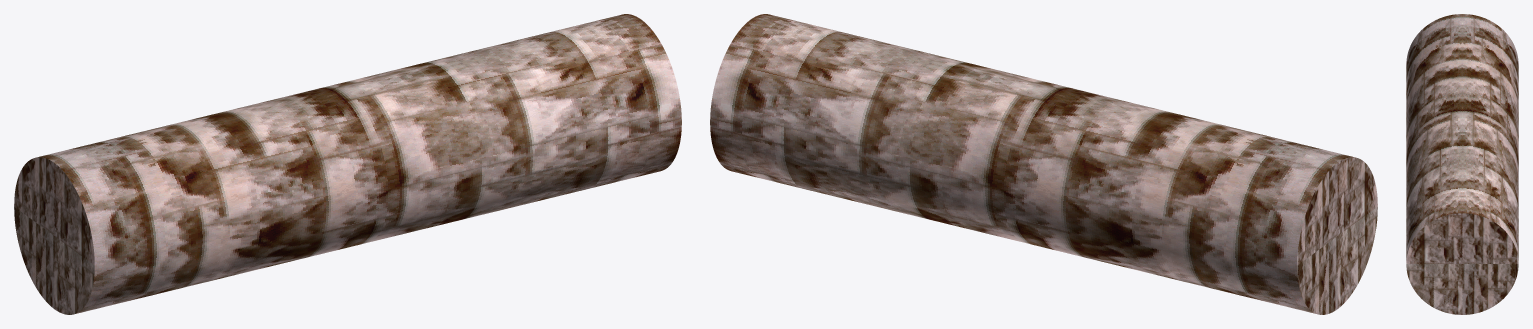
3 views of the same model, side by side, from view 1: azimuth 30°, elevation 25°; view 2: azimuth 150°, elevation 25°; view 3: azimuth 270°, elevation 25° (orthographic). The views are drawn at different scales.
Visible parts, largest first — view 1: Renderer Node; view 2: Renderer Node; view 3: Renderer Node.
Boxes of the visible parts, box(x1,y1,x2,y2) form: Renderer Node: box(14, 14, 681, 314); Renderer Node: box(710, 14, 1377, 314); Renderer Node: box(1406, 14, 1518, 314).
Bounding box in the file's own units: 4.2 × 1 × 1.
1 material, 1 textured.
